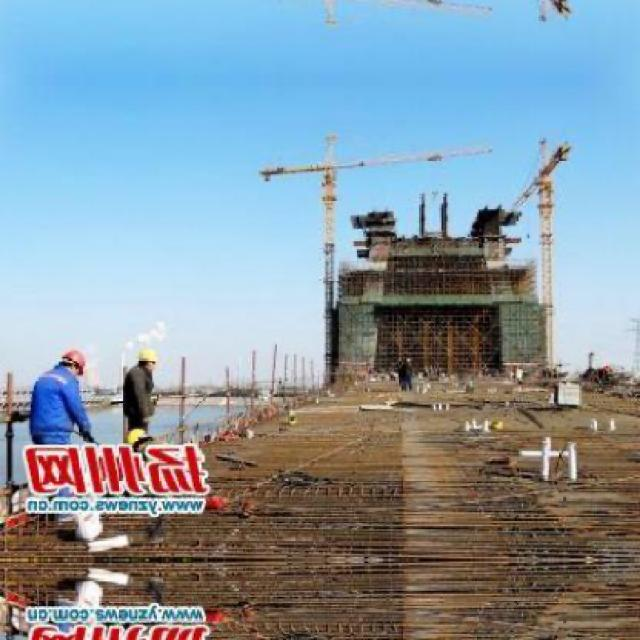helmet: (57, 348, 86, 380), (136, 346, 162, 377), (126, 430, 154, 452)
